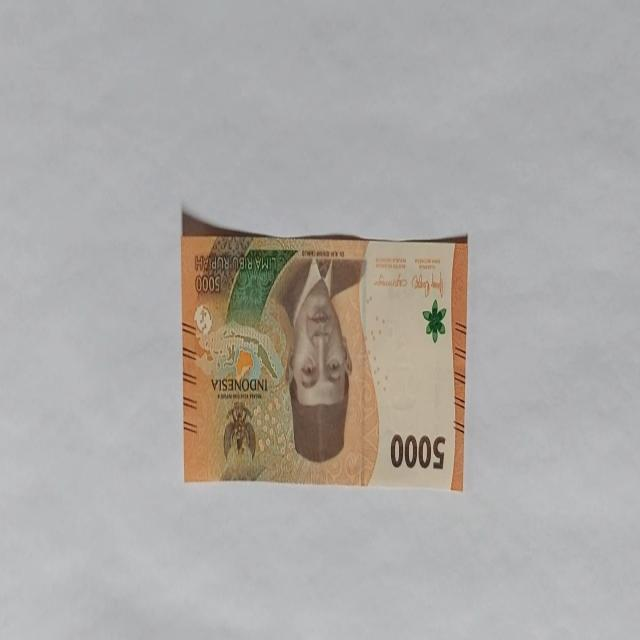lima ribu rupiah: (180, 212, 468, 490), (274, 256, 354, 464)
